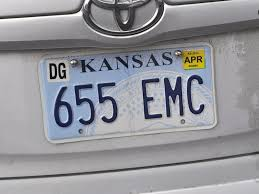number_plate: (31, 47, 232, 141)
